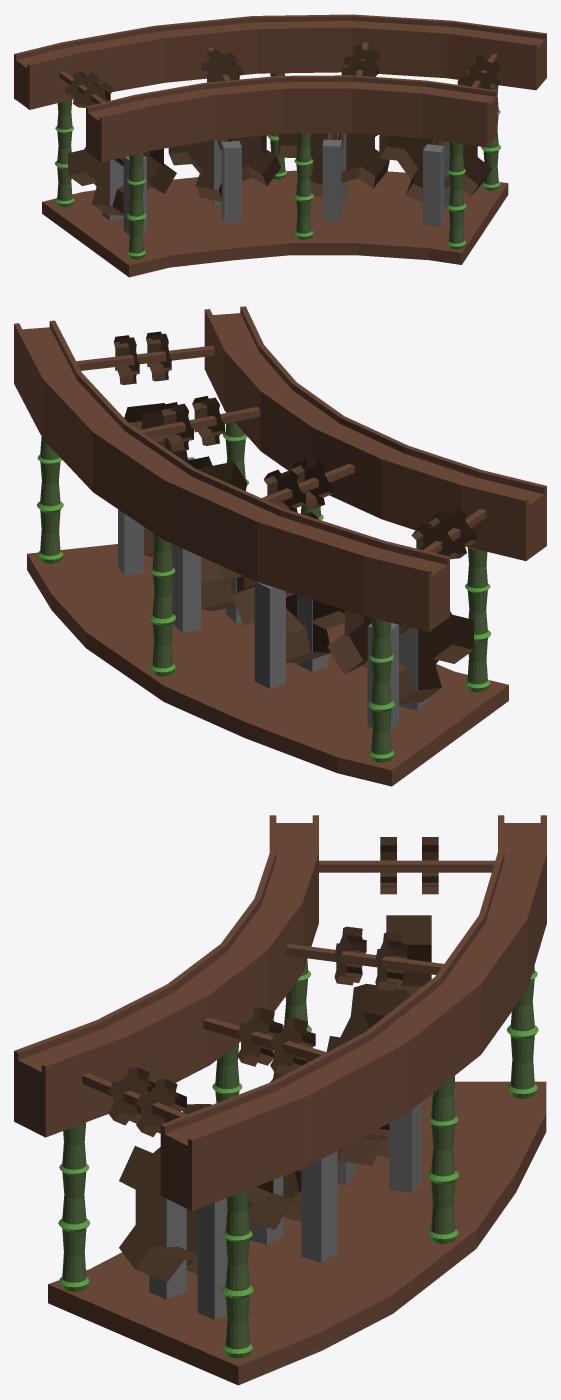
Rendered from rail avec Bambou droit 2 num 2.fbx.
3 renders of one model, top to bottom at view 1: azimuth 30°, elevation 25°; view 2: azimuth 150°, elevation 25°; view 3: azimuth 270°, elevation 25°, orthographic. The views are drawn at different scales.
Visible parts, largest first — view 1: rail droit 2, planche en bois qui soutien.001, gros rouage.007, gros rouage.008, gros rouage.009, gros rouage.006, planche soutien rouage.011, planche soutien rouage.008, bambou.016, bambou.015, planche soutien rouage.009, bambou.013 (+16 smaller); view 2: rail droit 2, planche en bois qui soutien.001, gros rouage.009, attache roue.031, gros rouage.008, planche soutien rouage.018, bambou.012, bambou.017, bambou.013, gros rouage.007, bambou.014, planche soutien rouage.015 (+14 smaller); view 3: rail droit 2, planche en bois qui soutien.001, attache roue.031, gros rouage.006, bambou.015, bambou.014, bambou.017, planche soutien rouage.015, gros rouage.008, planche soutien rouage.012, bambou.012, planche soutien rouage.018 (+14 smaller).
Part boxes in pixels (bbox=[...]): rail droit 2: bbox=[14, 14, 546, 162]; planche en bois qui soutien.001: bbox=[42, 170, 508, 277]; gros rouage.007: bbox=[278, 133, 389, 197]; gros rouage.008: bbox=[168, 135, 281, 201]; gros rouage.009: bbox=[68, 147, 176, 216]; gros rouage.006: bbox=[379, 135, 491, 202]; planche soutien rouage.011: bbox=[423, 144, 444, 226]; planche soutien rouage.008: bbox=[221, 141, 241, 223]; bambou.016: bbox=[294, 133, 313, 239]; bambou.015: bbox=[446, 142, 466, 249]; planche soutien rouage.009: bbox=[322, 139, 341, 221]; bambou.013: bbox=[126, 152, 146, 259]; rail droit 2: bbox=[14, 306, 546, 631]; planche en bois qui soutien.001: bbox=[27, 544, 508, 786]; gros rouage.009: bbox=[327, 610, 473, 704]; attache roue.031: bbox=[76, 345, 486, 553]; gros rouage.008: bbox=[231, 512, 344, 663]; planche soutien rouage.018: bbox=[254, 581, 285, 688]; bambou.012: bbox=[368, 618, 394, 762]; bambou.017: bbox=[149, 533, 175, 676]; bambou.013: bbox=[465, 547, 491, 692]; gros rouage.007: bbox=[171, 456, 247, 611]; bambou.014: bbox=[37, 437, 63, 563]; planche soutien rouage.015: bbox=[172, 544, 201, 632]; rail droit 2: bbox=[14, 815, 546, 1211]; planche en bois qui soutien.001: bbox=[48, 1081, 546, 1385]; attache roue.031: bbox=[82, 860, 495, 1120]; gros rouage.006: bbox=[119, 1104, 273, 1282]; bambou.015: bbox=[58, 1122, 90, 1291]; bambou.014: bbox=[222, 1189, 253, 1358]; bambou.017: bbox=[427, 1076, 458, 1243]; planche soutien rouage.015: bbox=[301, 1151, 337, 1262]; gros rouage.008: bbox=[326, 983, 409, 1165]; planche soutien rouage.012: bbox=[197, 1198, 227, 1319]; bambou.012: bbox=[507, 967, 538, 1098]; planche soutien rouage.018: bbox=[389, 1102, 421, 1193].
Bounding box in the file's own units: 1220 × 463 × 845.
